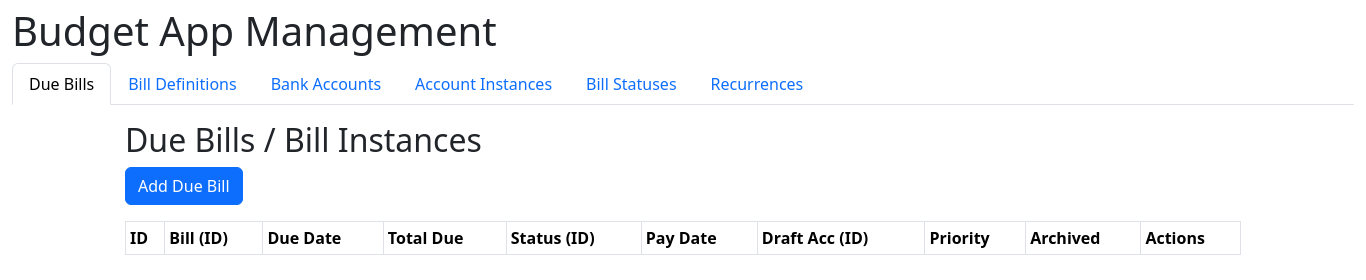
App Component Tabs Functionality › should switch to "Bill Definitions" tab and render its content when clicked
This screenshot has width=1366, height=280.
Note: Click the "Bill Definitions" tab link
Click the tab "Bill Definitions". click: (182, 84)
box: [111,63,253,105]
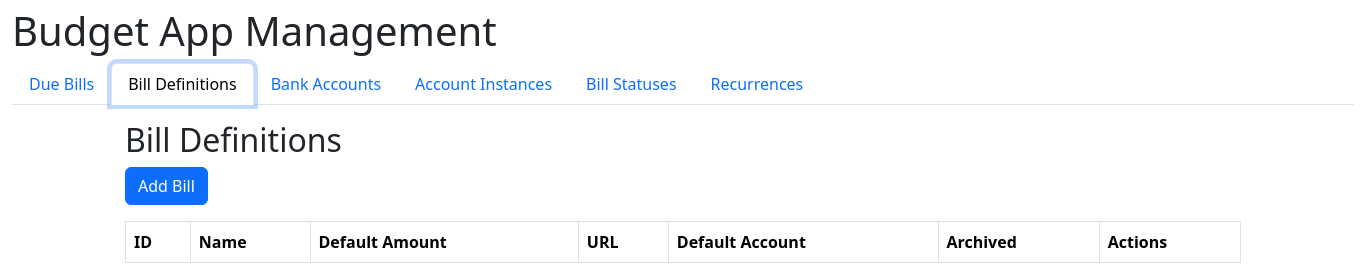
Now the heading "Bill Definitions" is shown, box [125,118,342,161]
Now the heading with test id "due-bills-heading" is gone
